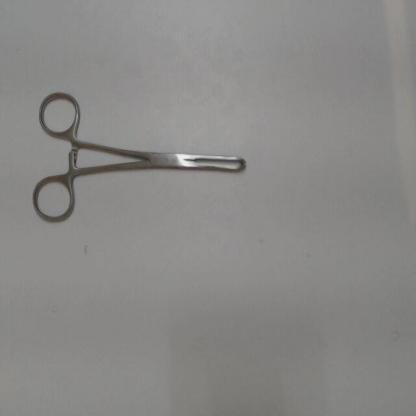Allis Tissue Forceps: (27, 84, 256, 231)
